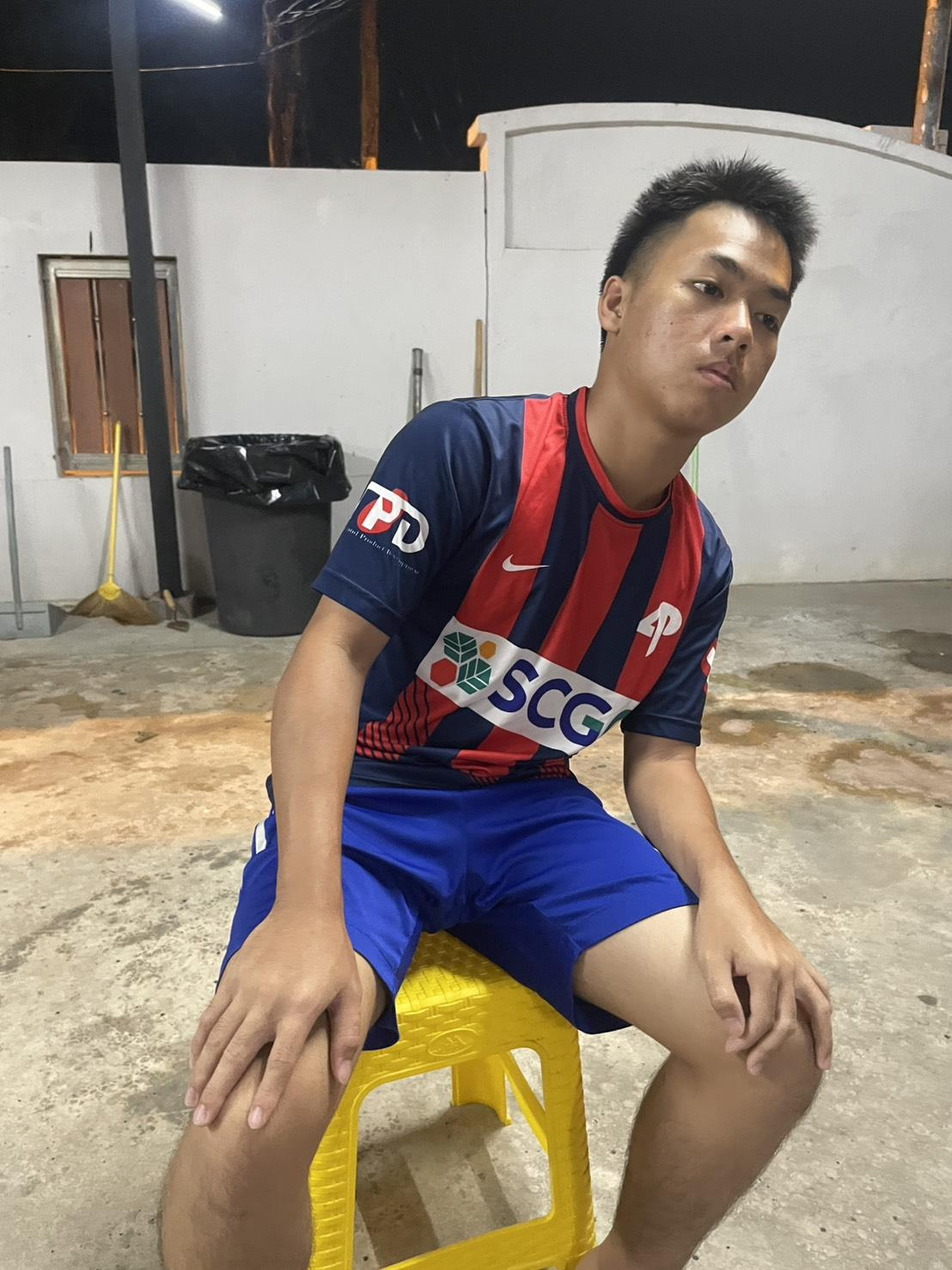BadPosture: (186, 157, 831, 1124), (272, 156, 815, 841)
